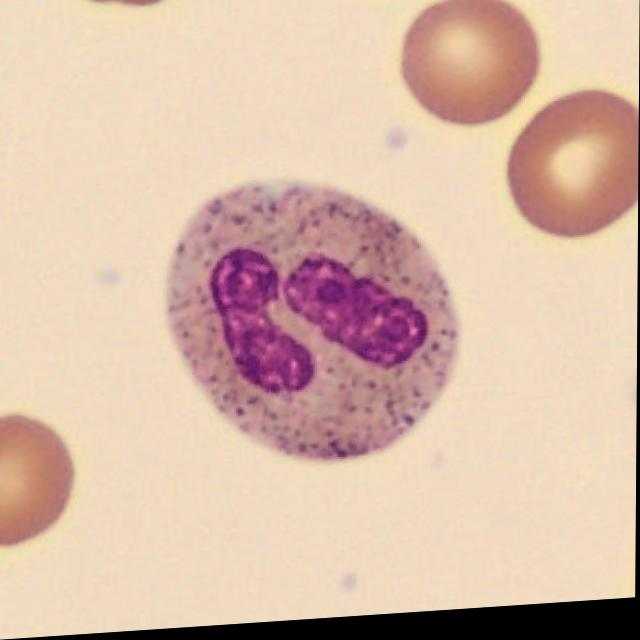Neutrofilo segmentado: (166, 183, 463, 467)
